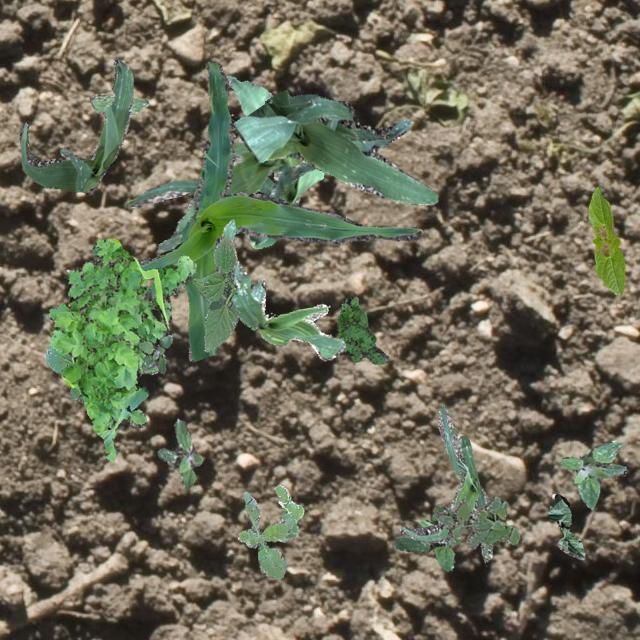crop: (136, 59, 422, 360), (232, 89, 436, 204), (124, 138, 314, 252), (220, 218, 344, 359), (225, 75, 323, 248), (18, 56, 132, 192), (398, 402, 492, 560), (192, 234, 240, 350), (586, 185, 624, 294), (548, 492, 584, 558), (90, 94, 148, 115)
weed: (46, 238, 195, 460), (236, 483, 302, 578), (394, 503, 461, 571), (560, 439, 624, 508), (436, 496, 518, 548), (336, 296, 388, 364), (156, 418, 202, 488), (46, 343, 82, 402), (138, 333, 172, 372)
